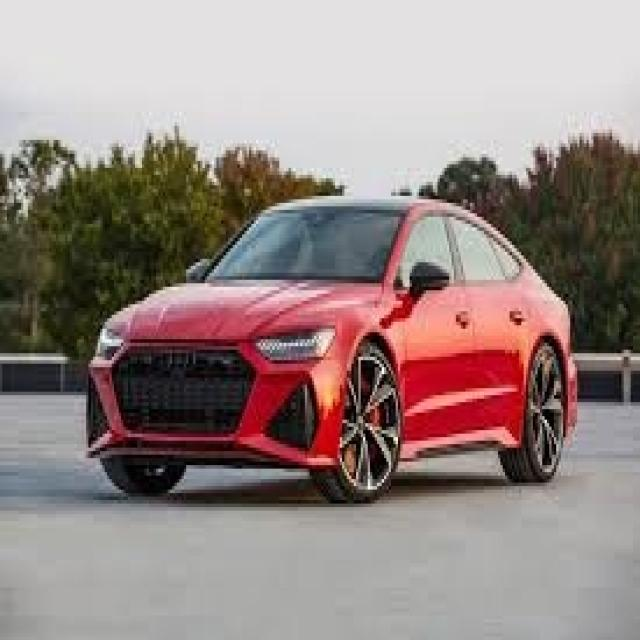red: (83, 192, 578, 478)
